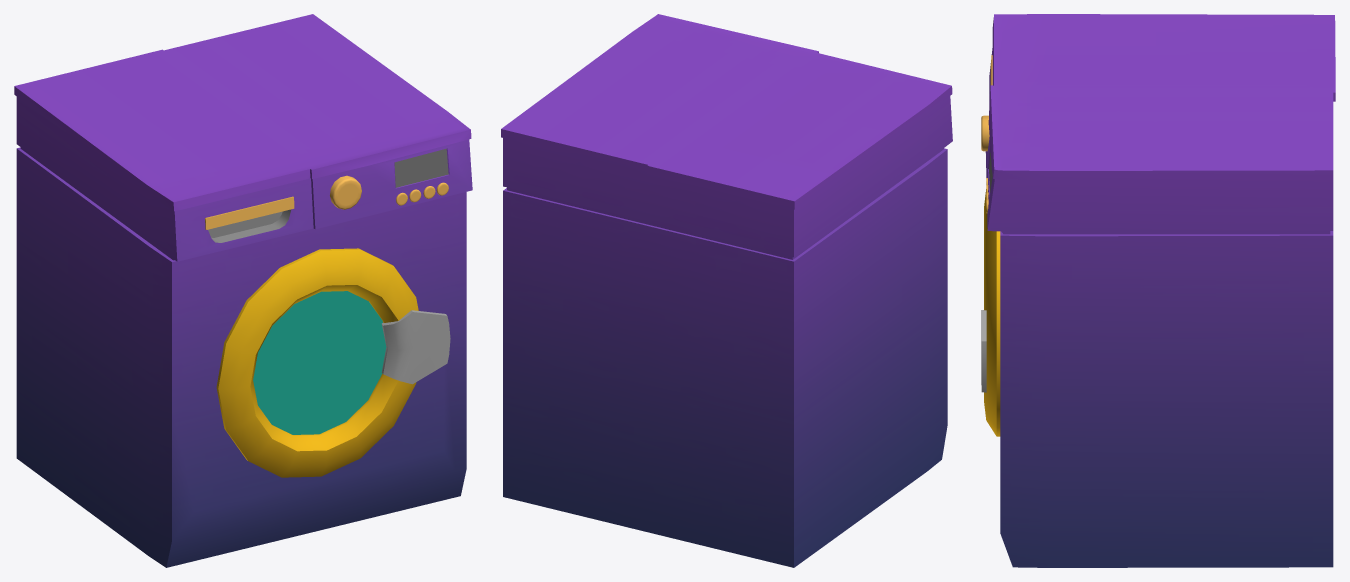
File: PurpleWasher.fbx
The picture shows the model from 3 angles, left to right: view 1: azimuth 30°, elevation 25°; view 2: azimuth 150°, elevation 25°; view 3: azimuth 270°, elevation 25°; orthographic projection. The views are drawn at different scales.
Parts seen in each view (by area): view 1: Washer, WasherLid; view 2: Washer; view 3: Washer, WasherLid.
Boxes of the visible parts, bbox=[...] form: Washer: bbox=[14, 14, 472, 567]; WasherLid: bbox=[216, 248, 450, 477]; Washer: bbox=[501, 14, 952, 567]; Washer: bbox=[981, 14, 1335, 567]; WasherLid: bbox=[981, 189, 1000, 436].
Bounding box in the file's own units: 104 × 123 × 99.44.
